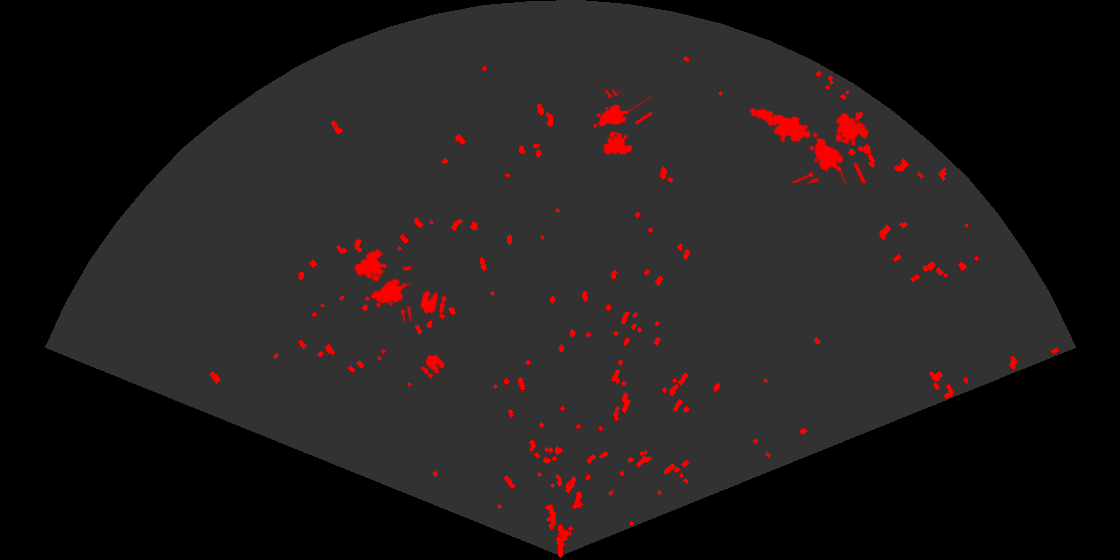ball: (419, 289, 448, 316), (419, 353, 446, 380)
cage: (789, 111, 871, 183), (352, 247, 411, 321), (591, 90, 652, 157)
frogman: (748, 106, 810, 144)
